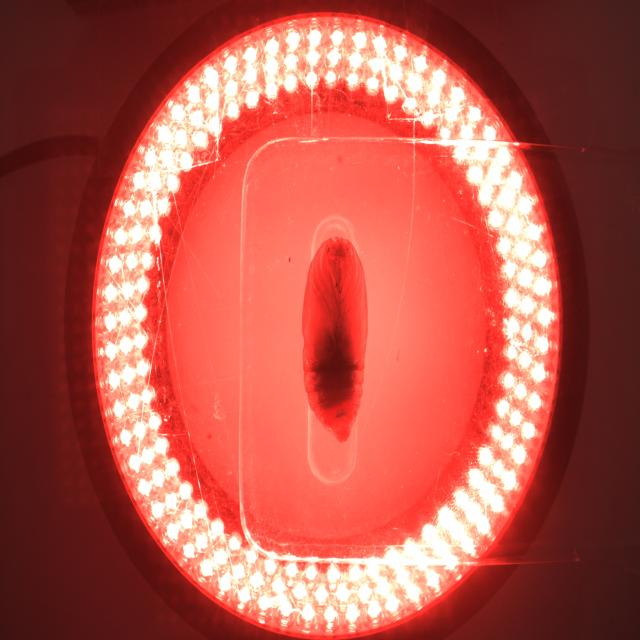male: (333, 409, 348, 422)
